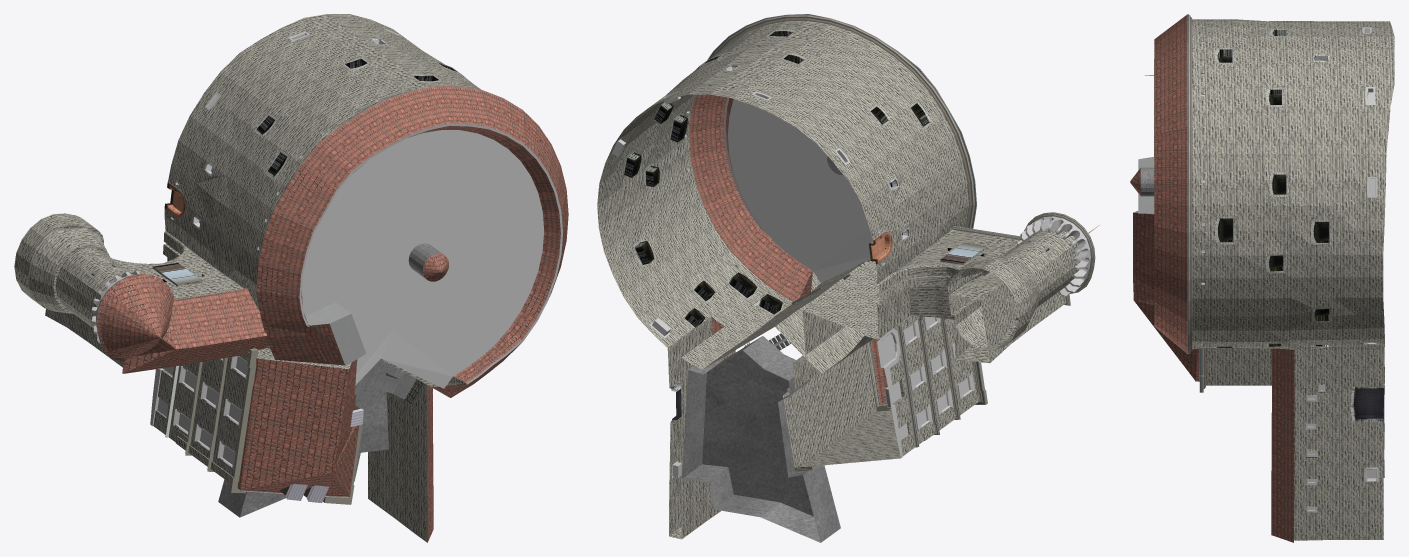
File: Pikk70_1_1.obj
3 views of the same model, side by side, from view 1: azimuth 30°, elevation 25°; view 2: azimuth 150°, elevation 25°; view 3: azimuth 270°, elevation 25° (orthographic). The views are drawn at different scales.
Visible parts, largest first — view 1: Pikk_70_1; view 2: Pikk_70_1; view 3: Pikk_70_1.
Boxes of the visible parts, <box> form: Pikk_70_1: <box>14,14,568,542</box>; Pikk_70_1: <box>597,14,1099,542</box>; Pikk_70_1: <box>1130,14,1394,542</box>.
Bounding box in the file's own units: 38.04 × 39.78 × 19.95.
